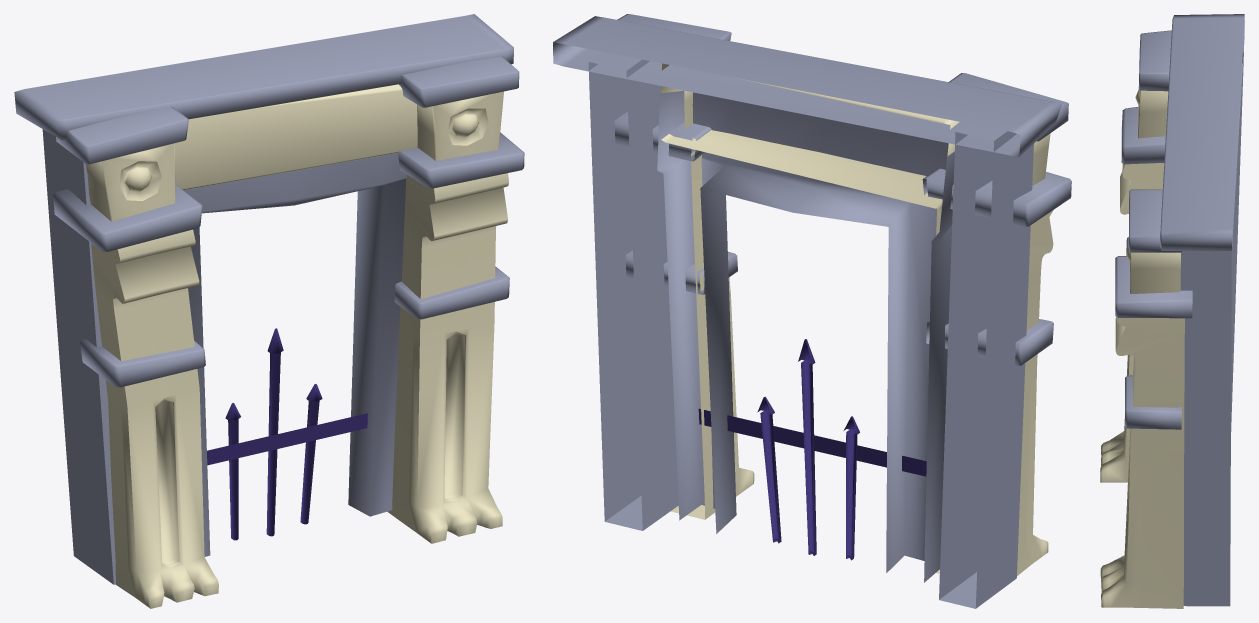
File: props_Cheminee.fbx
3 views of the same model, side by side, from view 1: azimuth 30°, elevation 25°; view 2: azimuth 150°, elevation 25°; view 3: azimuth 270°, elevation 25° (orthographic). The views are drawn at different scales.
Parts seen in each view (by area): view 1: Cheminée; view 2: Cheminée; view 3: Cheminée.
Boxes of the visible parts, box(x1,y1,x2,y2) form: Cheminée: box(14, 14, 524, 608); Cheminée: box(553, 14, 1071, 608); Cheminée: box(1100, 14, 1244, 608).
Size of the model in its own units: 339 by 341 by 106.
